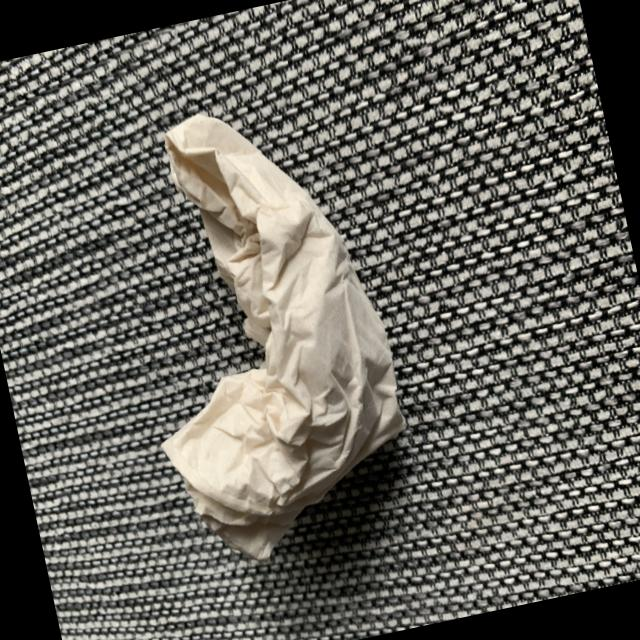organic waste: (86, 81, 432, 594)
